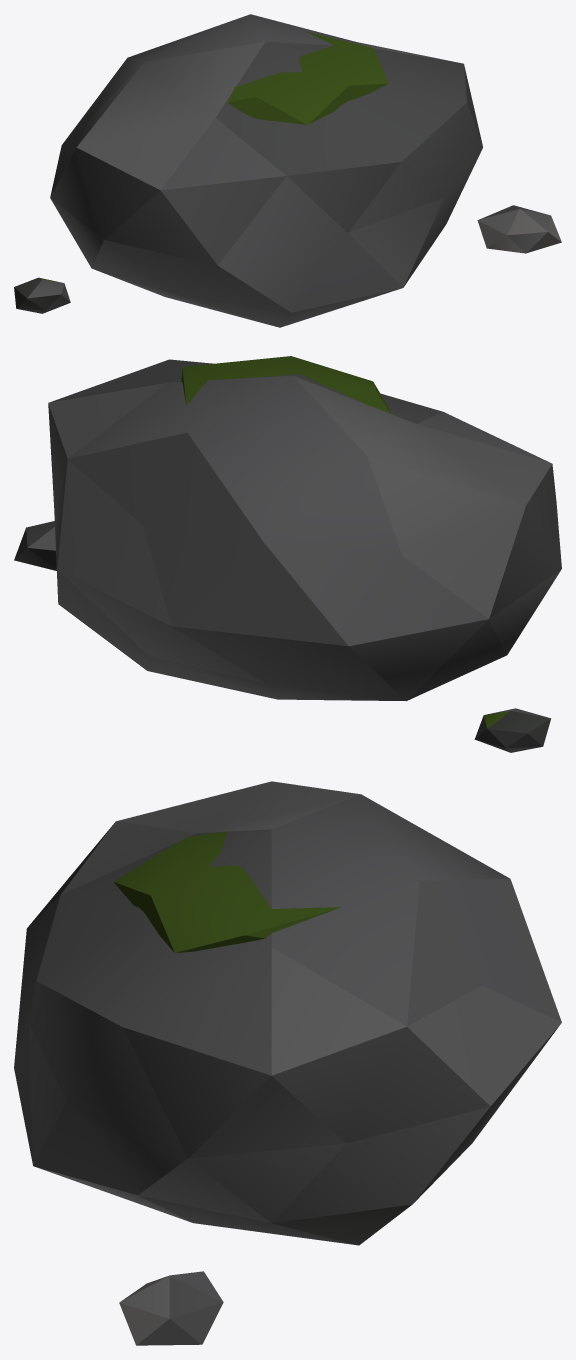
The model's file is bg_snow_rock_1_lod2.glb.
3 renders of one model, top to bottom at view 1: azimuth 30°, elevation 25°; view 2: azimuth 150°, elevation 25°; view 3: azimuth 270°, elevation 25°, orthographic. The views are drawn at different scales.
Visible parts, largest first — view 1: body; view 2: body; view 3: body.
Boxes of the visible parts, x1=… form: body: x1=14, y1=14, x2=561, y2=327; body: x1=14, y1=356, x2=561, y2=752; body: x1=14, y1=781, x2=561, y2=1345.
Size of the model in its own units: 2.29 by 1.2 by 1.54.
